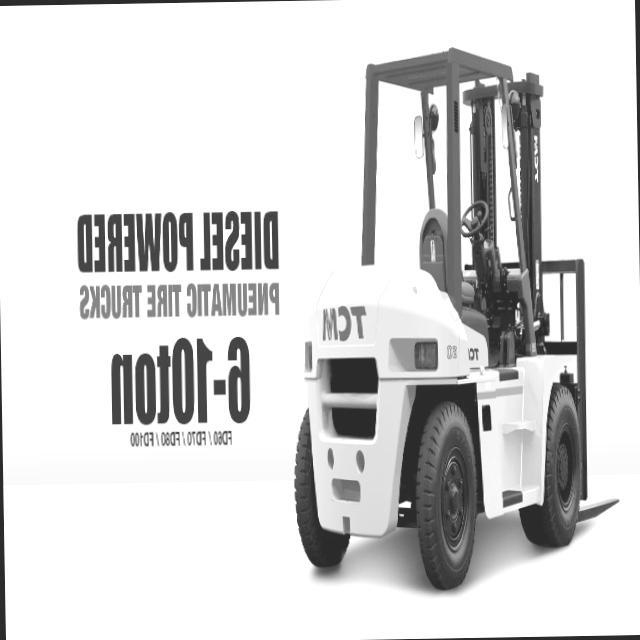forklift: (284, 18, 606, 602)
